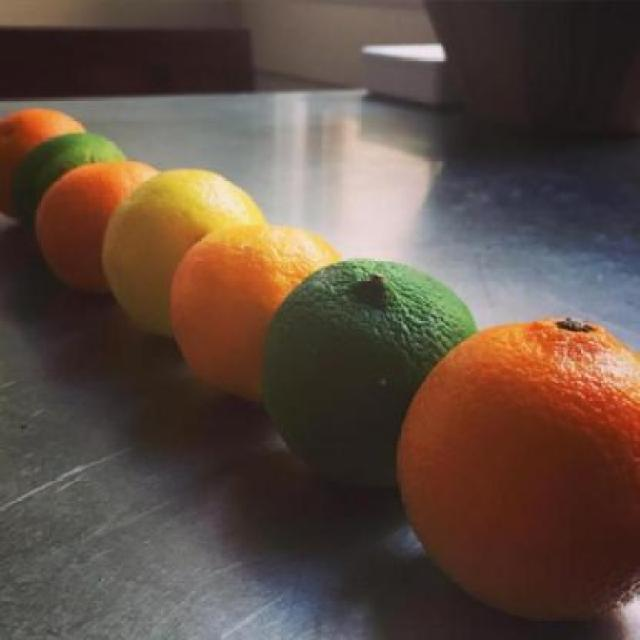Orange: (396, 314, 639, 624), (259, 258, 473, 482), (170, 228, 338, 400), (103, 165, 259, 328), (43, 162, 149, 282), (0, 106, 89, 176)
